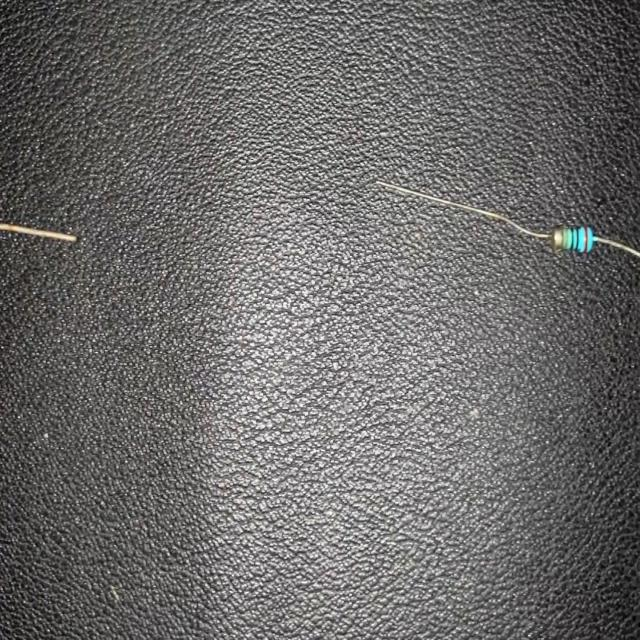faded: (534, 212, 568, 252)
resistor: (374, 171, 640, 264)
